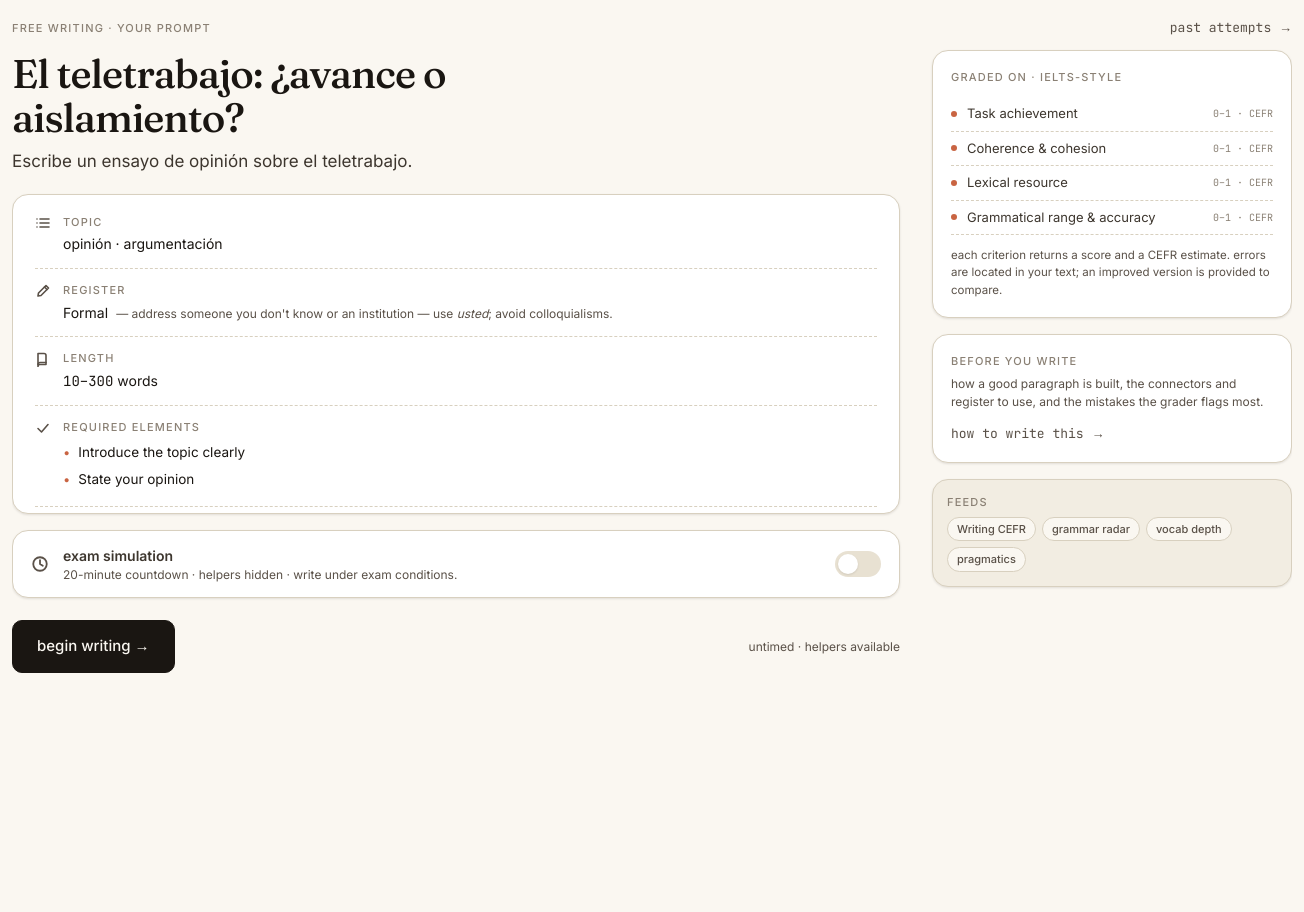
Test case: FreeWritingPage › step 2: brief → composer transition › clicking "begin writing" shows the composer textarea
This screenshot has width=1304, height=912.
What coordinates should you click on to do the following:
click the button "begin writing →"
I would click on:
 (93, 646)
Its box is [12, 620, 174, 673].
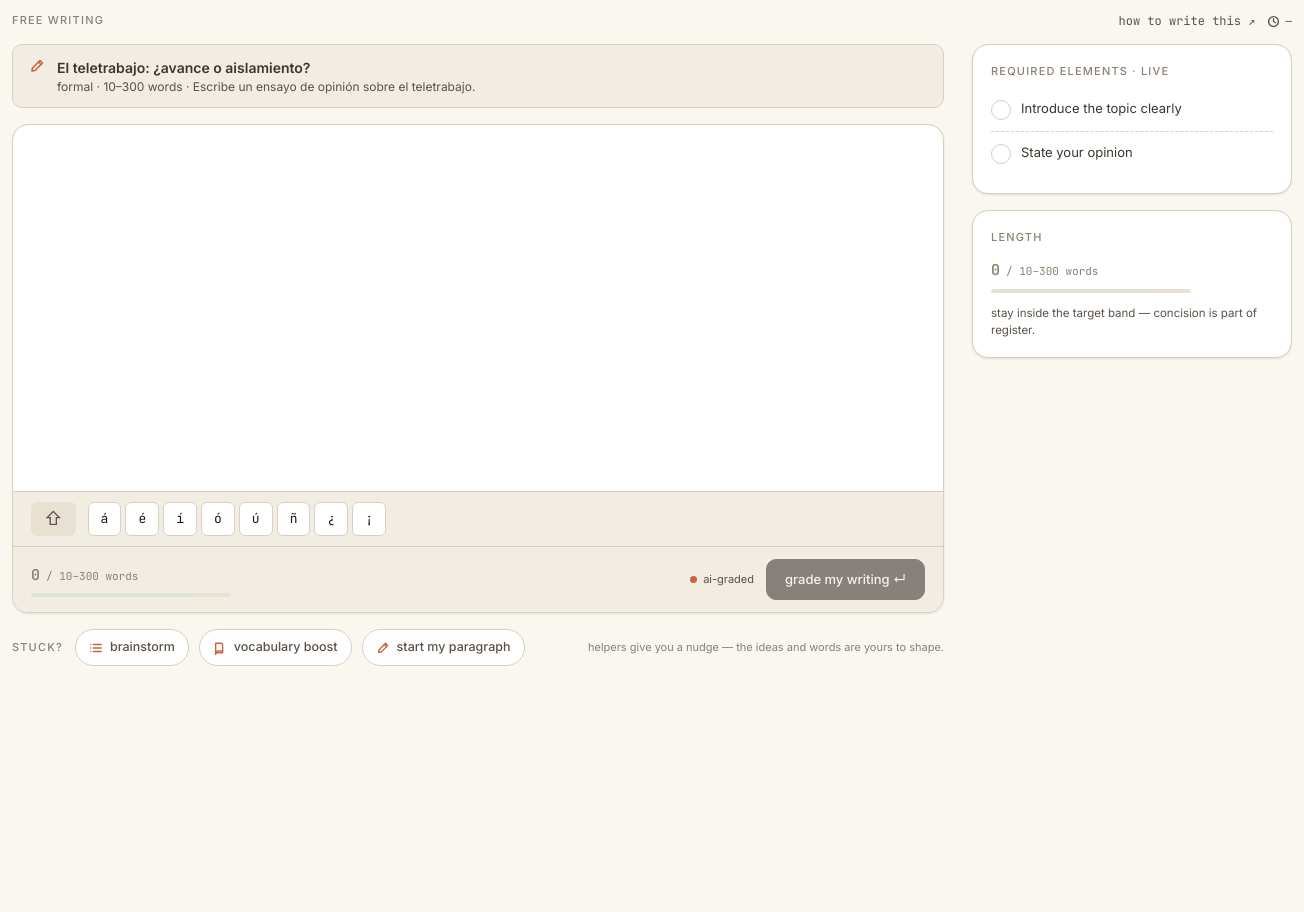
Result: the text box is shown at [13, 125, 943, 485]
